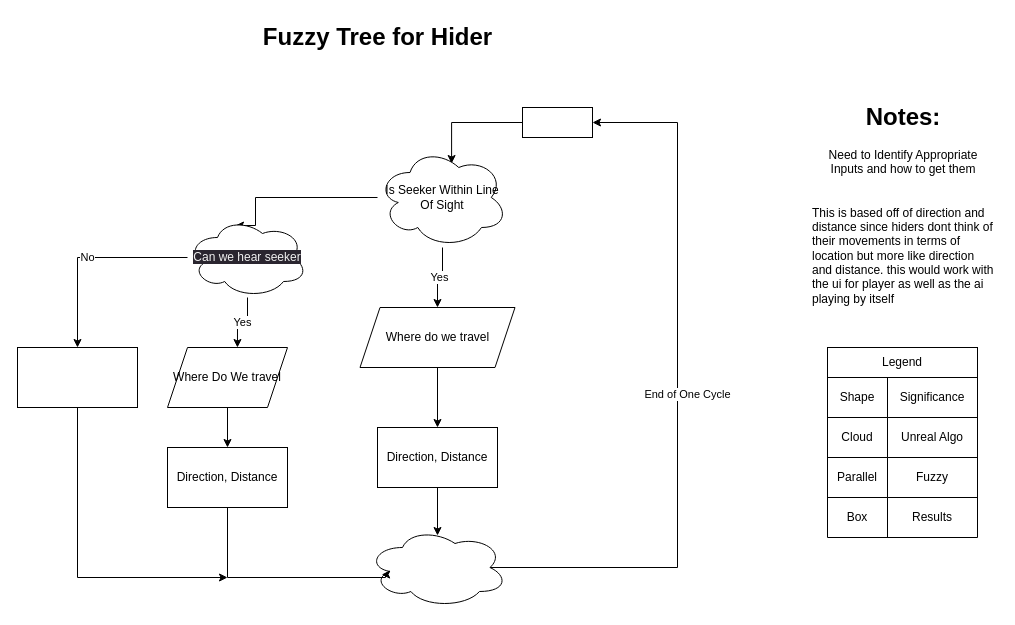
Image size: 1015x625. Some labels were removed from this diagram. The shapes that lost their labels are listed below. From the top down, each one's centre as x and y in pixels, then its label:
[557,122]: Start
[77,377]: Random Direction, Distance
[437,567]: Path Finding Algo
